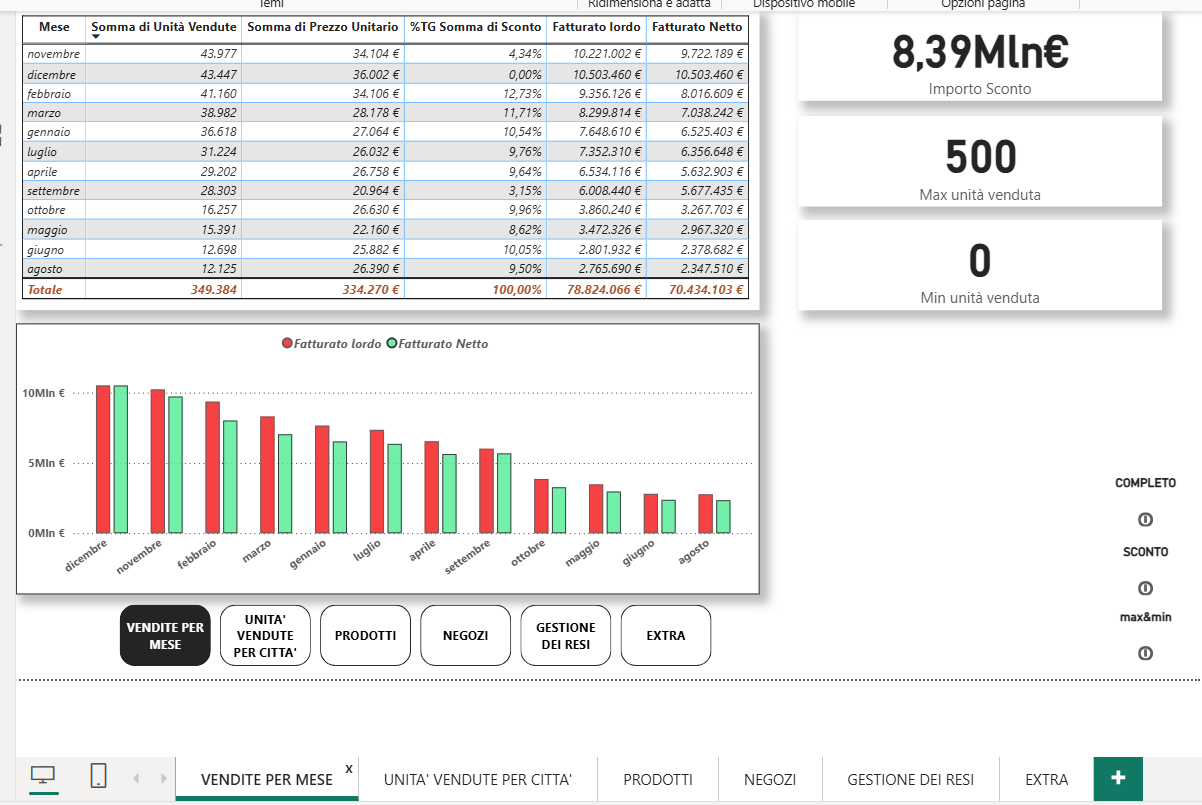

What the dashboard file says about the page in this screenshot:
{"tool":"powerbi","page":{"name":"VENDITE PER MESE","canvas":[1280,720],"ordinal":0},"visuals":[{"type":"tableEx","fields":{"Values":["Dati.Data Transizione.Variazione.Gerarchia data.Mese","Sum(Dati.Unità Vendute)","Sum(Dati.Prezzo Unitario)","Sum(Dati.Sconto)","Dati.Fatturato lordo","Dati.Fatturato Netto"]},"box":[0,0,801.4,322.5],"z":0},{"type":"clusteredColumnChart","fields":{"Category":["Dati.Data Transizione.Variazione.Gerarchia data.Mese"],"Y":["Dati.Fatturato lordo","Dati.Fatturato Netto"]},"box":[0,337.6,801.4,292.3],"z":1000},{"type":"card","fields":{"Values":["Dati.Importo Sconto"]},"box":[843.6,0,392.2,97],"z":2000},{"type":"pageNavigator","box":[112.2,640.6,643,66.4],"z":3000},{"type":"card","fields":{"Values":["MISURE.MAX UNITA VENDUTE"]},"box":[843.3,113.4,392.1,97.7],"z":4000},{"type":"card","fields":{"Values":["MISURE.Min unità venduta"]},"box":[843.3,224.4,392.1,97.7],"z":5000},{"type":"actionButton","title":"COMPLETO","box":[1156.1,501.7,123.6,74.2],"z":6000},{"type":"actionButton","title":"SCONTO","box":[1156.1,575.9,123.6,74.2],"z":7000},{"type":"actionButton","title":"max&min","box":[1156.1,645.7,123.6,74.2],"z":8000}]}

Visuals, with their boxes on the page's 1280x720 design canvas (x1, y1, x2, y2). These are canvas units, not pixel positions in the 1202x805 screenshot, which may show the page scaled, cropped or inside an application window:
tableEx - Dati.Data Transizione.Variazione.Gerarchia data.Mese x Sum(Dati.Unità Vendute): 0, 0, 801, 322
clusteredColumnChart - Dati.Data Transizione.Variazione.Gerarchia data.Mese x Dati.Fatturato lordo: 0, 338, 801, 630
card - Dati.Importo Sconto: 844, 0, 1236, 97
pageNavigator: 112, 641, 755, 707
card - MISURE.MAX UNITA VENDUTE: 843, 113, 1235, 211
card - MISURE.Min unità venduta: 843, 224, 1235, 322
"COMPLETO" actionButton: 1156, 502, 1280, 576
"SCONTO" actionButton: 1156, 576, 1280, 650
"max&min" actionButton: 1156, 646, 1280, 720
